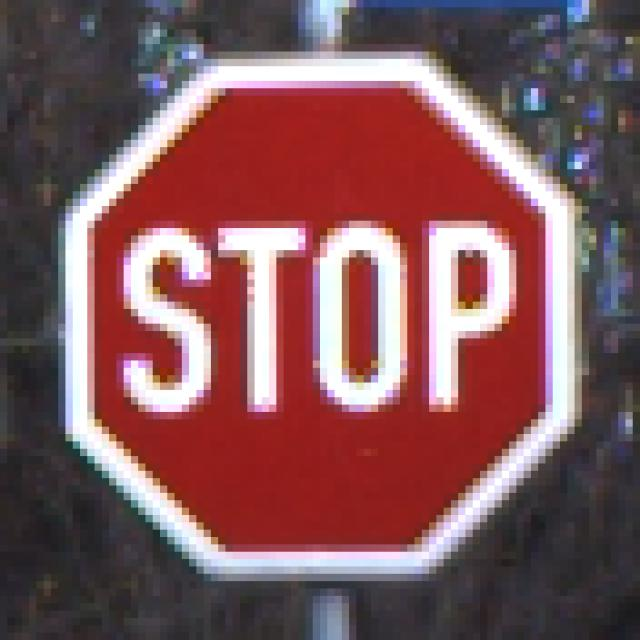STOP: (52, 53, 590, 590)
